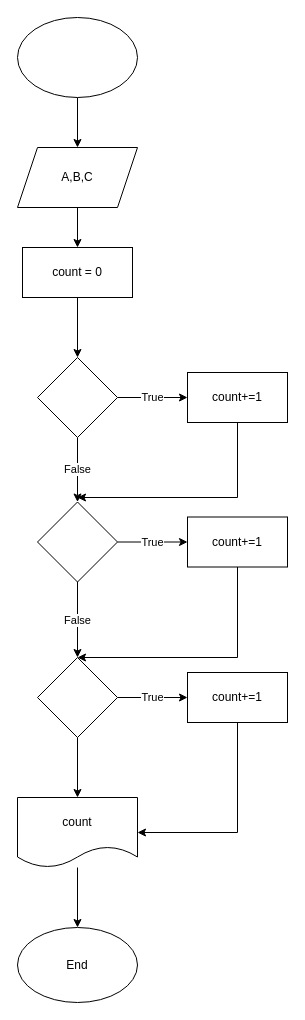
Some shapes in this 305 by 1020 pixel diagram are drawn without their labels. The shapes that lost their labels are listed below. From the top down, each one's box as (x1, y1, x2, y2) in pixels, then its label:
(16, 16, 138, 98): Start
(36, 356, 118, 438): A%2 != 0
(36, 501, 118, 582): B%2 != 0
(36, 656, 118, 738): C%2 != 0
